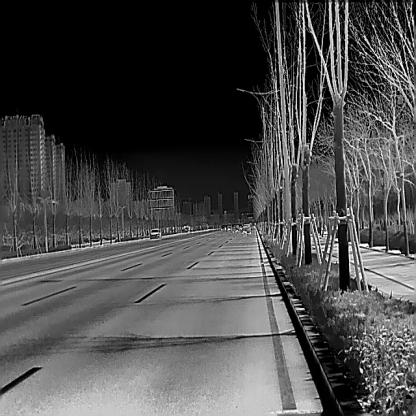car: (150, 228, 161, 238), (242, 224, 250, 233), (236, 224, 241, 232), (227, 223, 231, 230)
